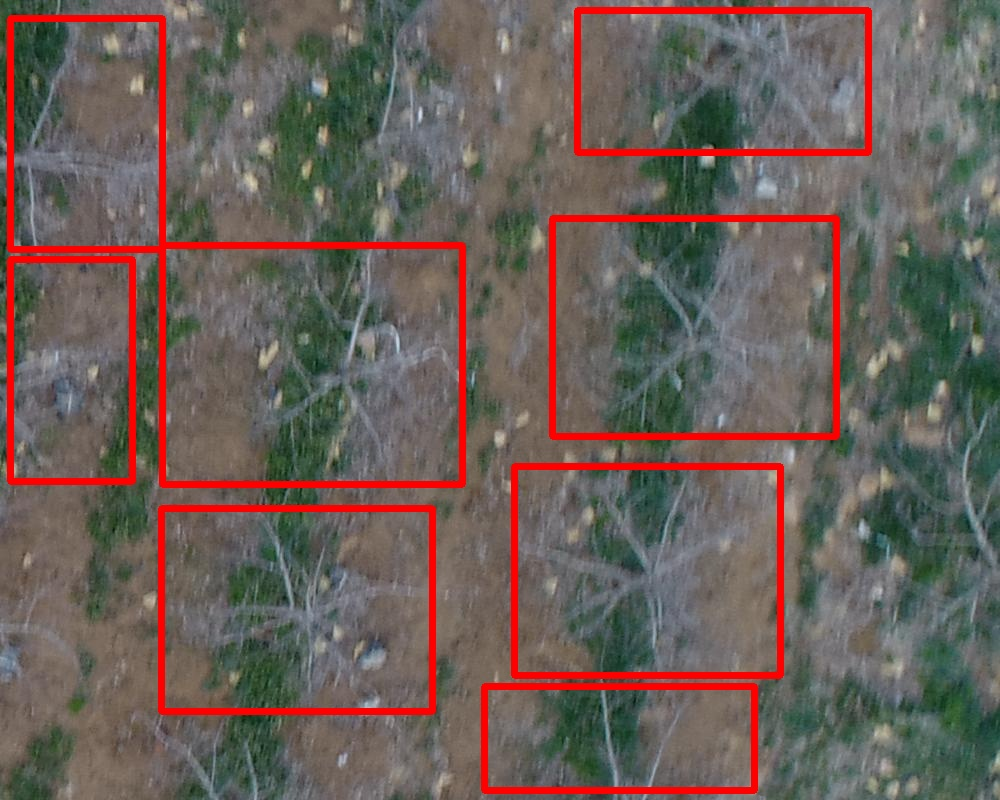apple: (162, 245, 462, 484), (552, 218, 836, 436), (514, 466, 780, 675), (161, 508, 432, 711), (577, 10, 868, 152), (10, 18, 162, 249), (484, 686, 754, 790), (10, 259, 132, 481)
